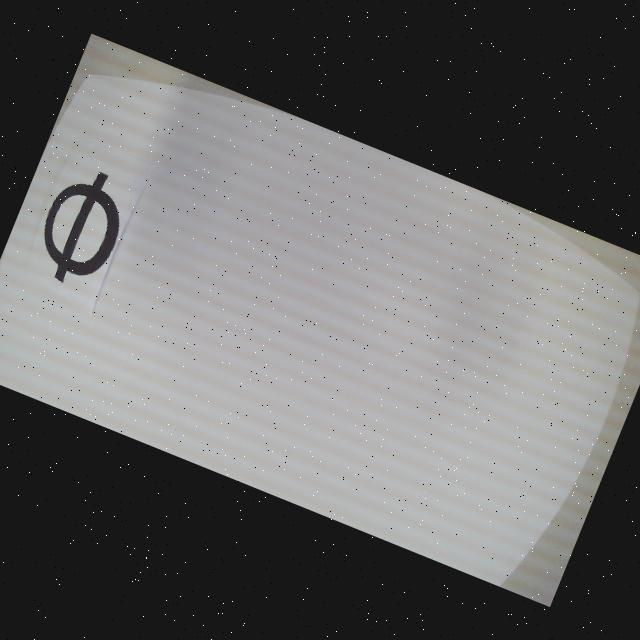PHI: (24, 158, 138, 296)
